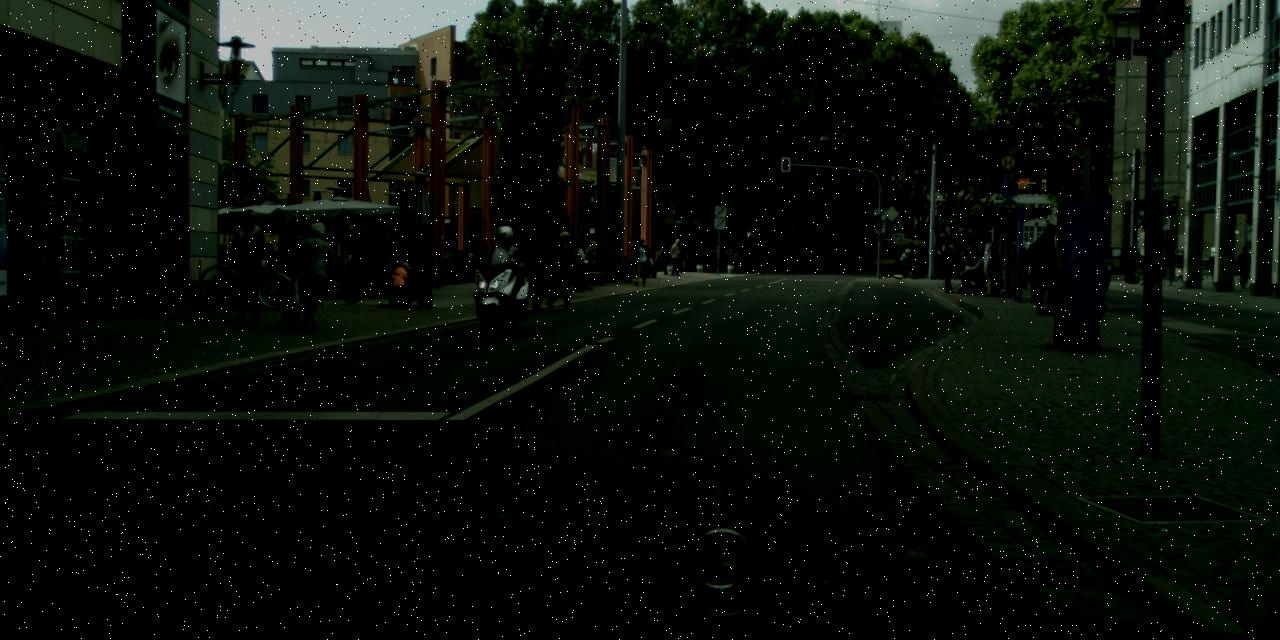ped: (225, 210, 271, 322), (278, 213, 324, 324), (291, 221, 335, 331), (1022, 223, 1056, 316), (484, 224, 520, 310), (406, 222, 441, 308), (545, 231, 577, 310), (523, 239, 553, 312), (974, 233, 1000, 295), (956, 250, 985, 294), (946, 240, 966, 292), (566, 239, 586, 290), (631, 238, 650, 286), (900, 249, 926, 280), (389, 262, 406, 304), (1235, 247, 1252, 288), (1207, 251, 1222, 287), (669, 238, 683, 274), (1123, 247, 1137, 282), (656, 242, 669, 274), (734, 242, 746, 272), (932, 250, 944, 278), (585, 241, 596, 271), (652, 248, 661, 270), (804, 246, 812, 268), (760, 244, 768, 264), (765, 245, 773, 264)
